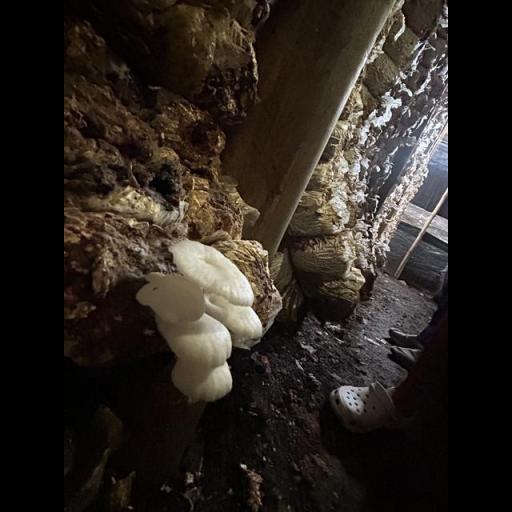White Oyster Mushroom: (137, 238, 263, 400)
